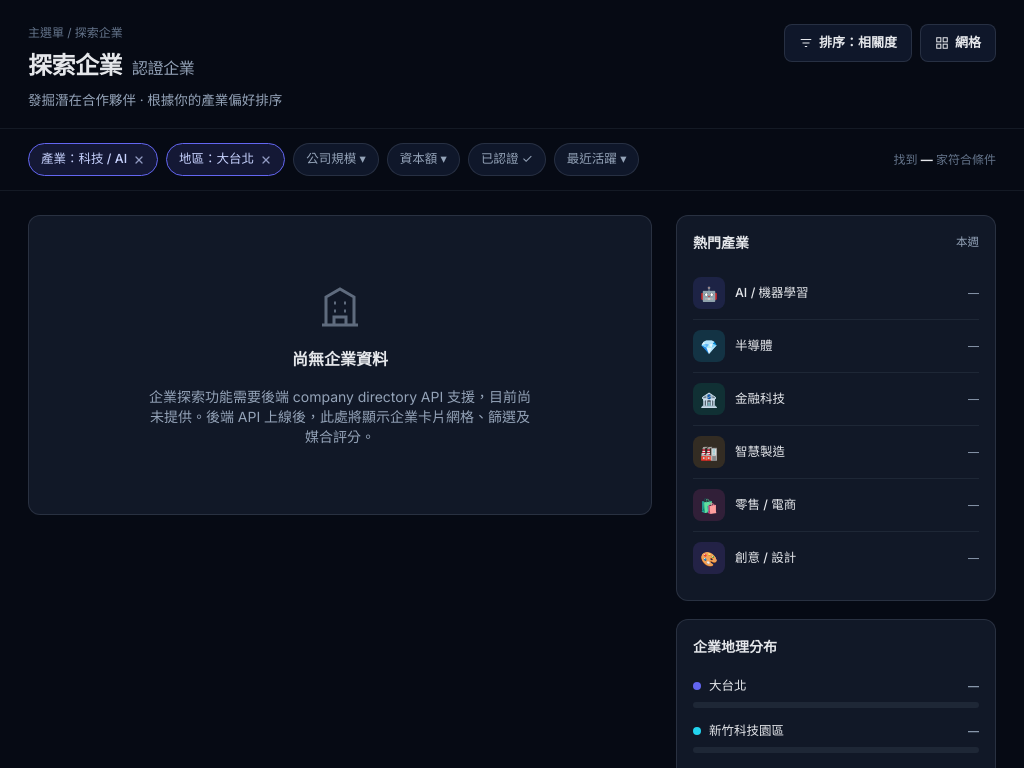
Test case: DiscoverPage › removes a filter chip when its remove button is clicked
The width and height of the screenshot is (1024, 768).
Expected: the text "產業：科技 / AI" is shown, left=28, top=143, right=158, bottom=176
# Click the remove button on that chip
Click the button named "Remove 產業：科技 / AI filter" at {"x": 139, "y": 160}, box left=133, top=154, right=145, bottom=166
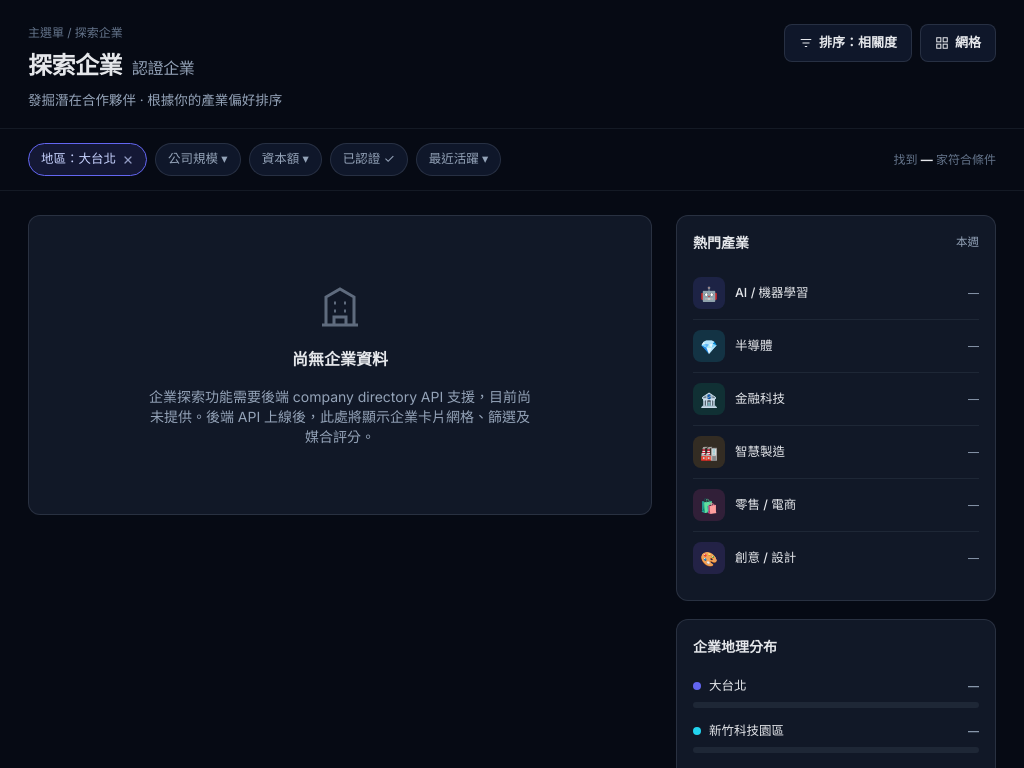
Now the text "產業：科技 / AI" is gone
